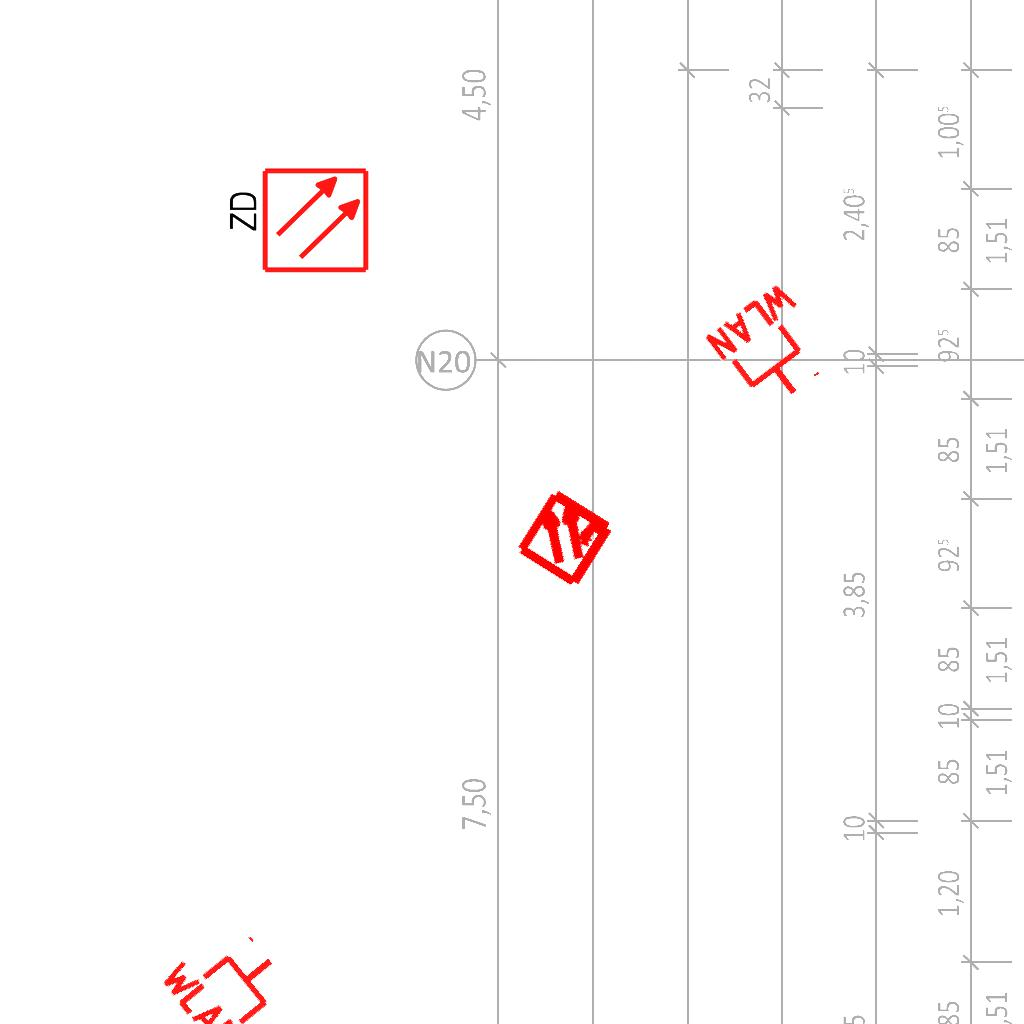OT_Multisensormelder_(Kombination_RMO_WMD): (488, 458, 645, 615)
WLAN: (699, 275, 846, 423), (153, 910, 302, 1024)
ZD_Melder_in_Zwischendecke_mit_Revisionsoeffnung_mind_40_x_40_cm: (222, 165, 371, 279)
